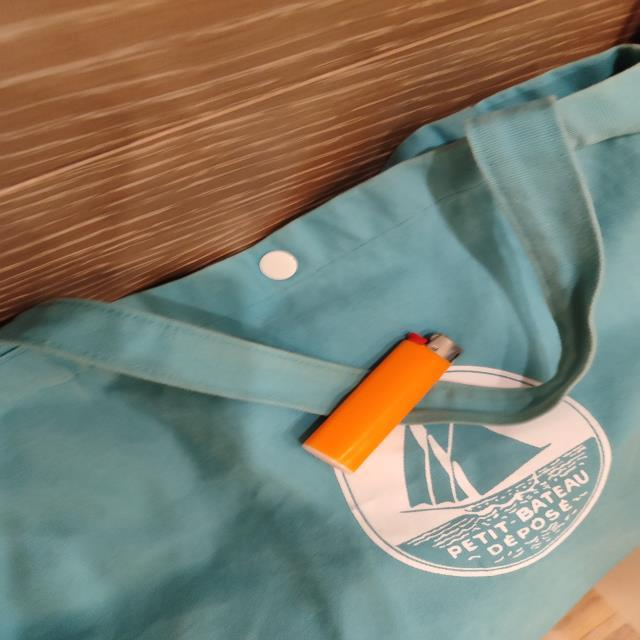lighter: (303, 333, 449, 471)
